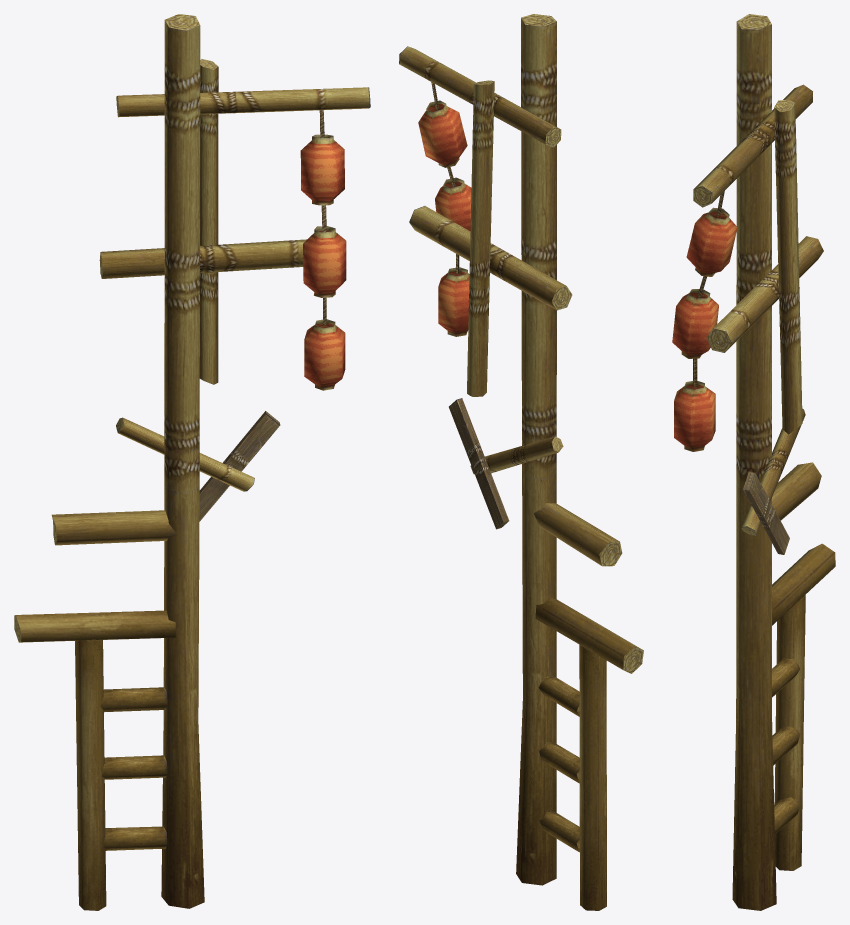
The model's file is 1004_Item_deng_1.FBX.
3 renders of one model, left to right at view 1: azimuth 30°, elevation 25°; view 2: azimuth 150°, elevation 25°; view 3: azimuth 270°, elevation 25°, orthographic. The views are drawn at different scales.
Parts seen in each view (by area): view 1: 1004_Item_deng_1; view 2: 1004_Item_deng_1; view 3: 1004_Item_deng_1.
Boxes of the visible parts, box(x1,y1,x2,y2) form: 1004_Item_deng_1: box(14, 14, 370, 910); 1004_Item_deng_1: box(399, 14, 643, 910); 1004_Item_deng_1: box(672, 14, 835, 910).
Size of the model in its own units: 256 by 121 by 717.
Materials: 1 (1 with a texture image).
